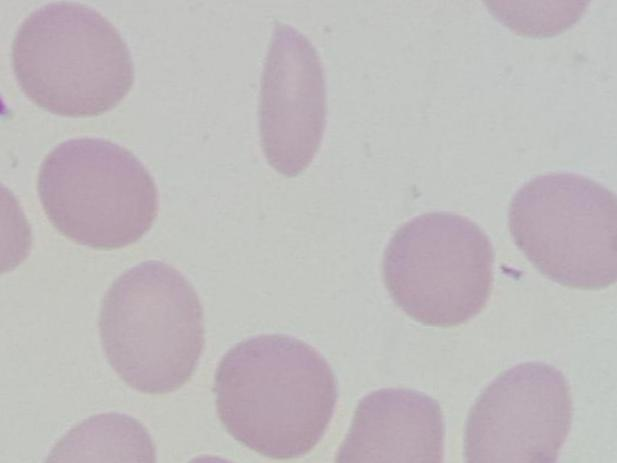Uninfected: (215, 333, 338, 462), (99, 258, 205, 399), (13, 0, 135, 118), (36, 137, 160, 248), (504, 172, 617, 292), (386, 208, 496, 329), (461, 354, 567, 463), (259, 18, 322, 180), (344, 387, 445, 463)
